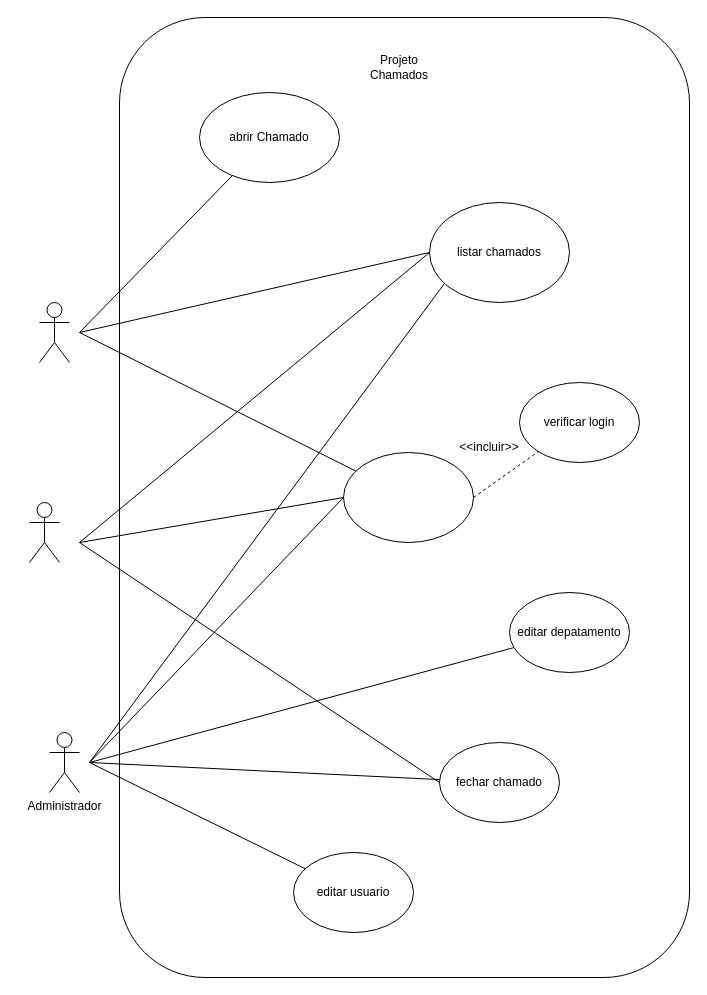
The diagram is 707 pixels wide and 995 high, and some of its shapes have lost their labels. The box of each missing label's shape, as (x1, y1, x2, y2) in pixels:
Atendente: (28, 502, 60, 562)
Fazer login: (342, 452, 474, 542)
Funcionario: (38, 302, 70, 362)
